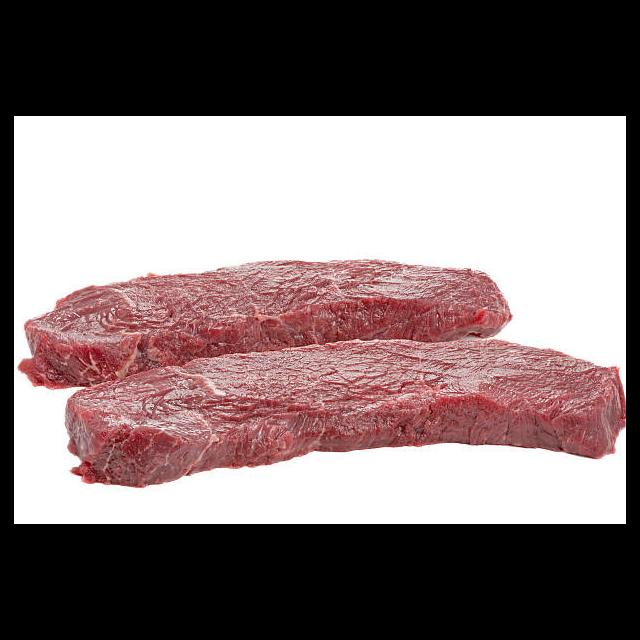beef: (18, 259, 624, 489)
